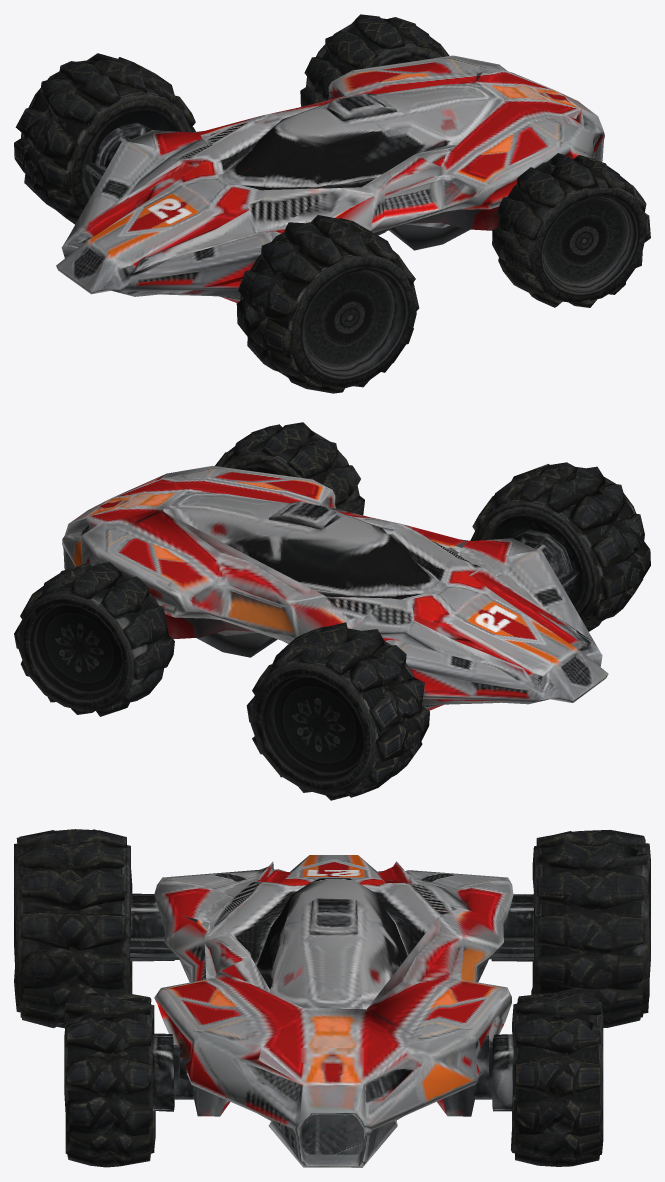
The model's file is car.glb.
3 views of the same model, one above another, from view 1: azimuth 30°, elevation 25°; view 2: azimuth 150°, elevation 25°; view 3: azimuth 270°, elevation 25° (orthographic). The views are drawn at different scales.
Bounding box in the file's own units: 1 × 0.3066 × 0.9141.
1 material, 1 textured.
